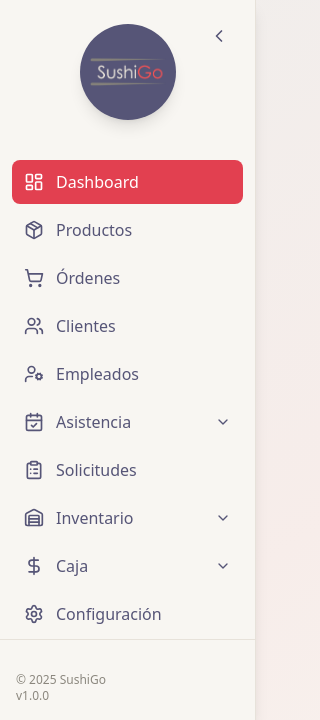
Test: Sidebar — submenu toggle › expands Inventario submenu and shows sub-items
Click the button "Inventario".
click(128, 518)  # box [12, 496, 243, 540]
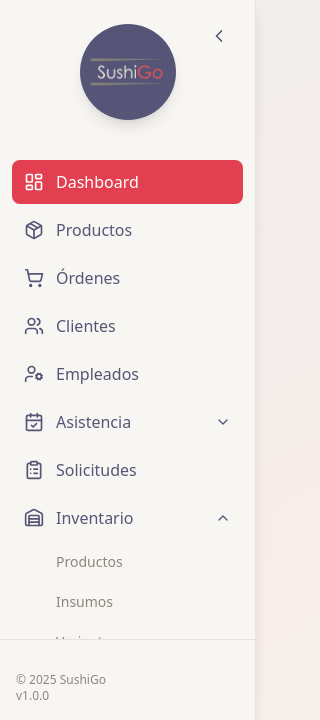
expect the link "Insumos" is shown: met, box [56, 592, 113, 611]
